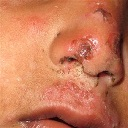Impetigo: (71, 36, 97, 59), (108, 32, 124, 61), (95, 6, 114, 23)
